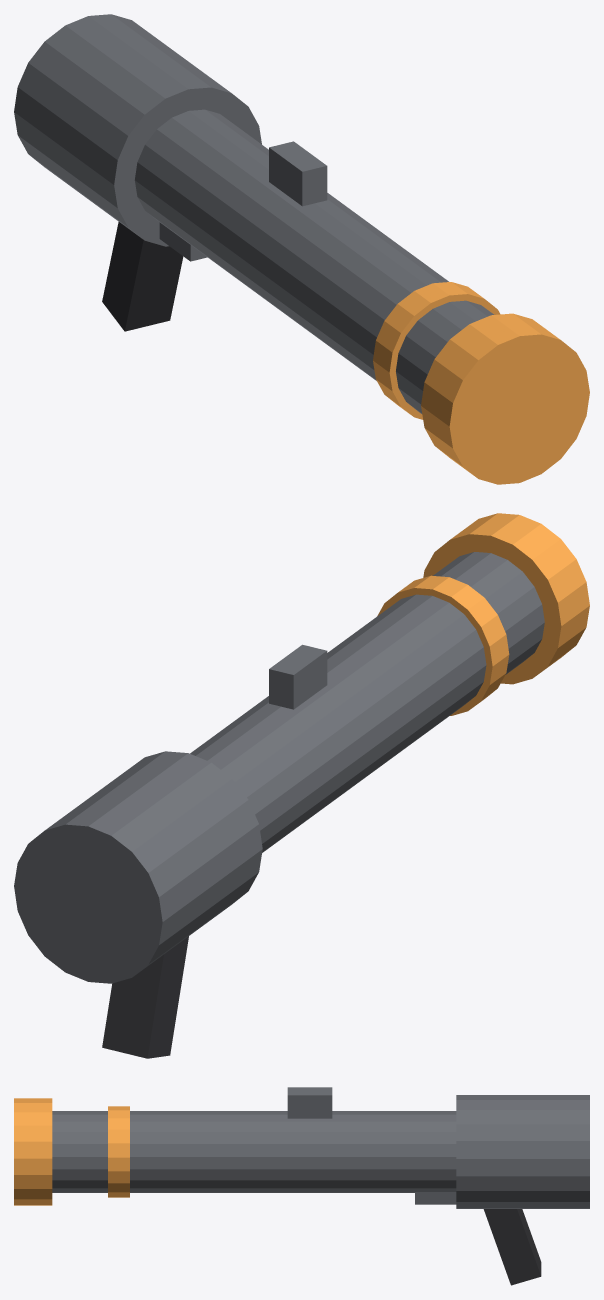
The model's file is RocketLauncher.glb.
The picture shows the model from 3 angles, top to bottom: view 1: azimuth 30°, elevation 25°; view 2: azimuth 150°, elevation 25°; view 3: azimuth 270°, elevation 25°; orthographic projection. The views are drawn at different scales.
Parts seen in each view (by area): view 1: Barrel, Breach, Muzzle, Grip, Band, Sight, Guard; view 2: Breach, Barrel, Muzzle, Grip, Band, Sight; view 3: Barrel, Breach, Muzzle, Grip, Band, Sight, Guard.
Part boxes in pixels (left/top/right/bottom): Barrel: left=134, top=109, right=493, bottom=413; Breach: left=14, top=14, right=261, bottom=246; Muzzle: left=421, top=313, right=589, bottom=484; Grip: left=102, top=222, right=183, bottom=331; Band: left=373, top=282, right=500, bottom=419; Sight: left=269, top=141, right=327, bottom=206; Guard: left=159, top=222, right=207, bottom=261; Breach: left=14, top=751, right=262, bottom=983; Barrel: left=190, top=552, right=544, bottom=852; Muzzle: left=423, top=513, right=589, bottom=684; Grip: left=102, top=936, right=188, bottom=1058; Band: left=377, top=575, right=509, bottom=715; Sight: left=269, top=644, right=327, bottom=709; Barrel: left=52, top=1111, right=456, bottom=1192; Breach: left=456, top=1095, right=589, bottom=1208; Muzzle: left=14, top=1098, right=52, bottom=1205; Grip: left=483, top=1209, right=541, bottom=1285; Band: left=108, top=1106, right=129, bottom=1197; Sight: left=287, top=1087, right=332, bottom=1118; Guard: left=415, top=1192, right=456, bottom=1204.
Size of the model in its own units: 0.36 by 0.6476 by 1.81.
